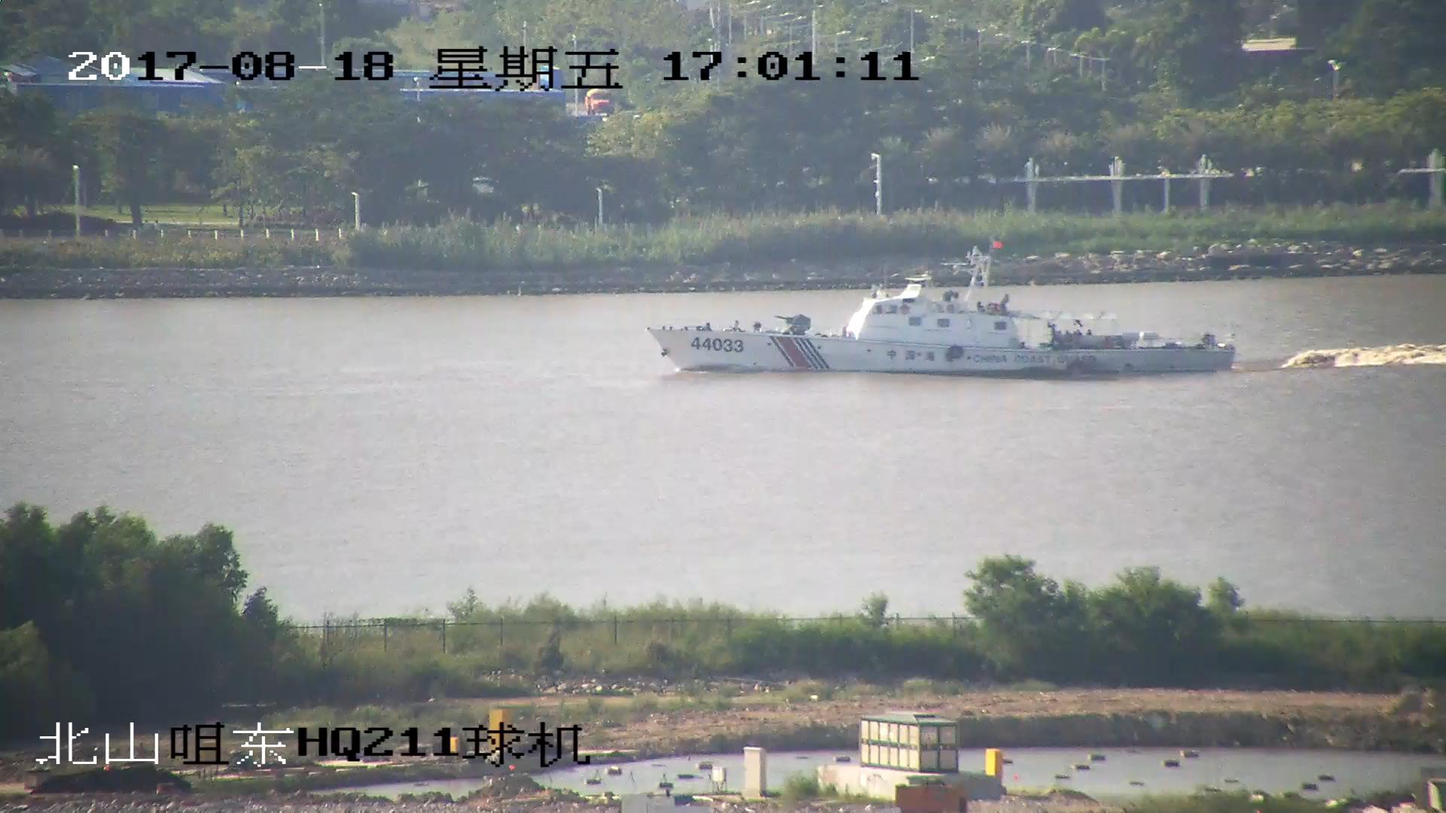passenger ship: (653, 243, 1234, 377)
